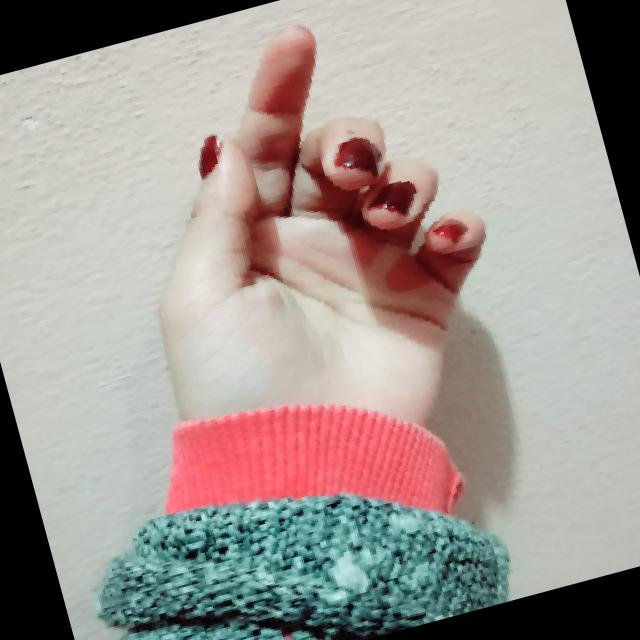Nail: (334, 136, 378, 173), (371, 181, 416, 215), (198, 135, 221, 178), (432, 220, 467, 243)
